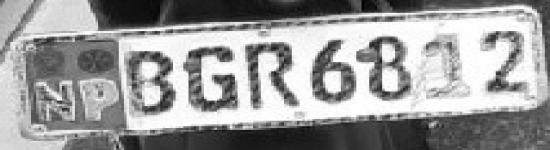1: (415, 25, 475, 102)
2: (477, 22, 533, 96)
6: (308, 31, 362, 107)
8: (360, 30, 417, 104)
B: (117, 45, 182, 123)
G: (182, 42, 241, 118)
N: (31, 79, 79, 124)
P: (76, 76, 124, 128)
R: (238, 38, 308, 116)
